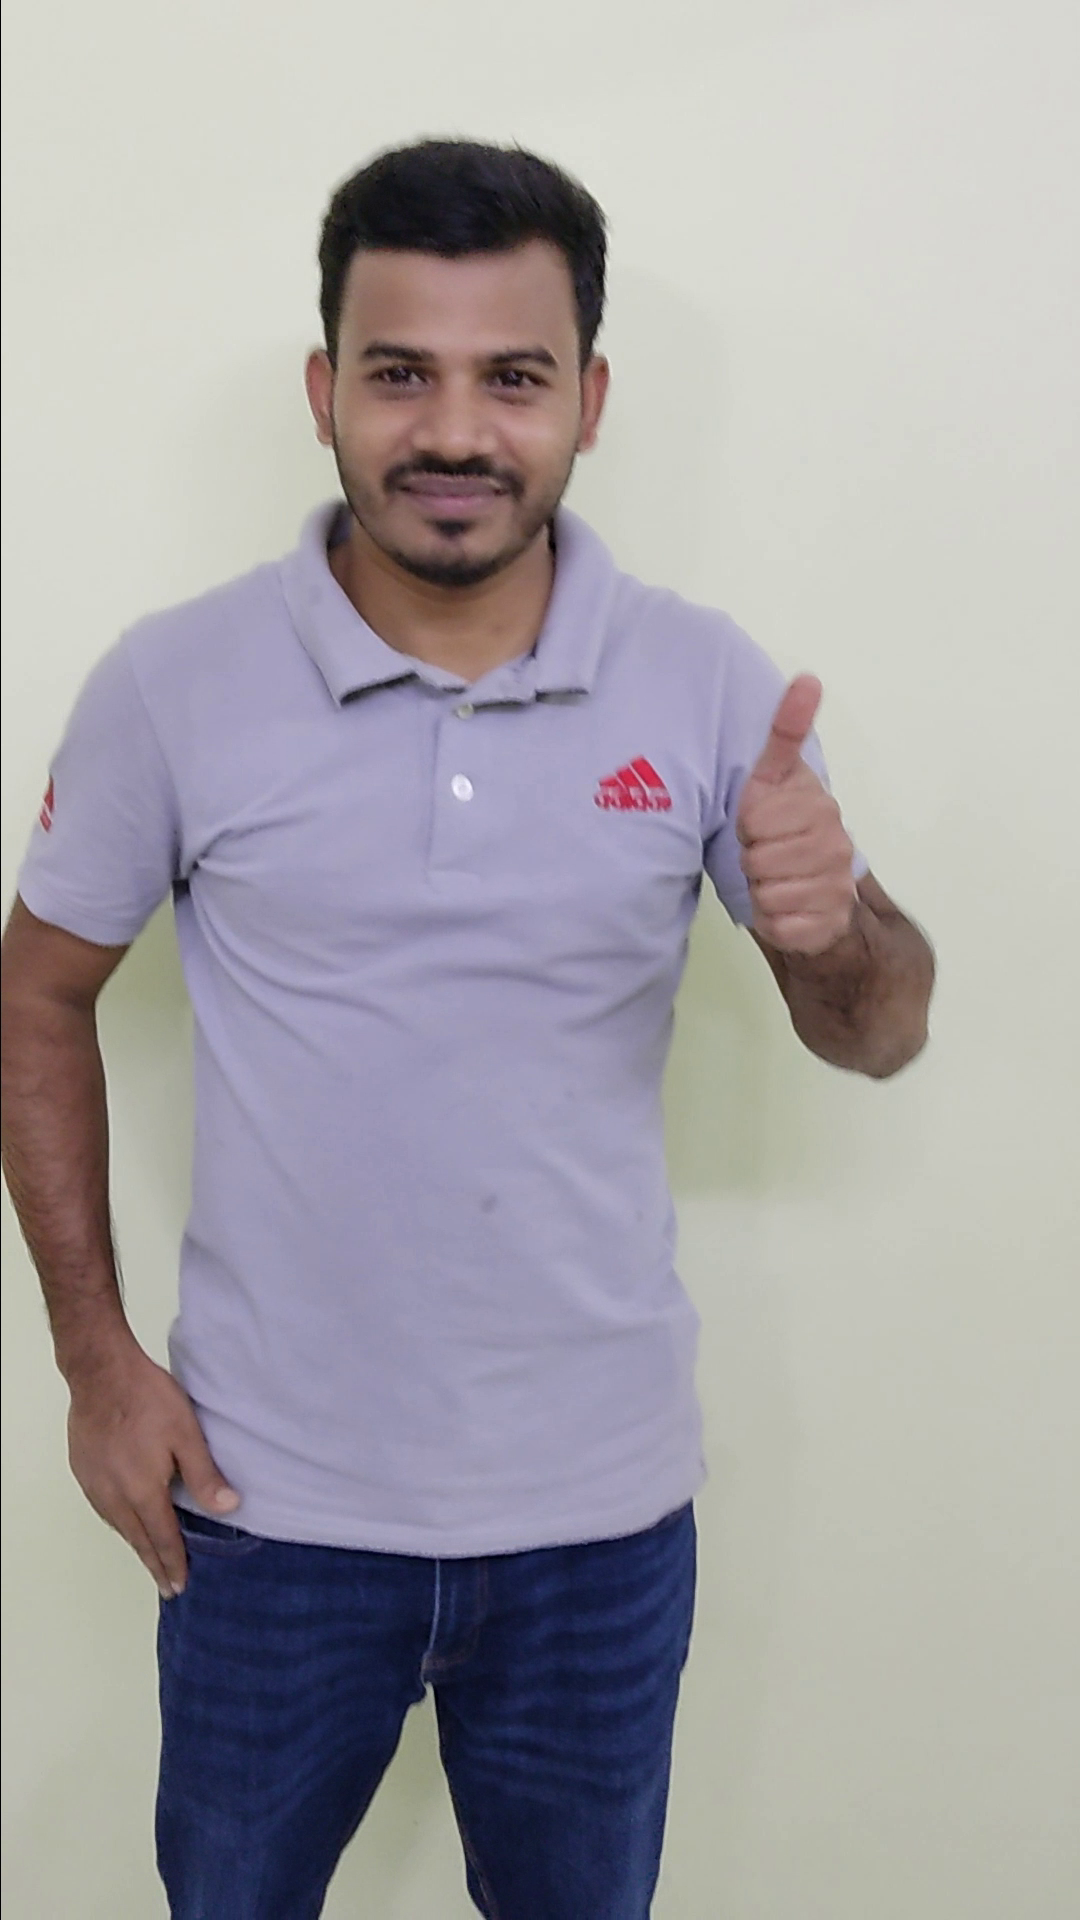Like: (705, 650, 897, 977)
None: (61, 1335, 260, 1617)
